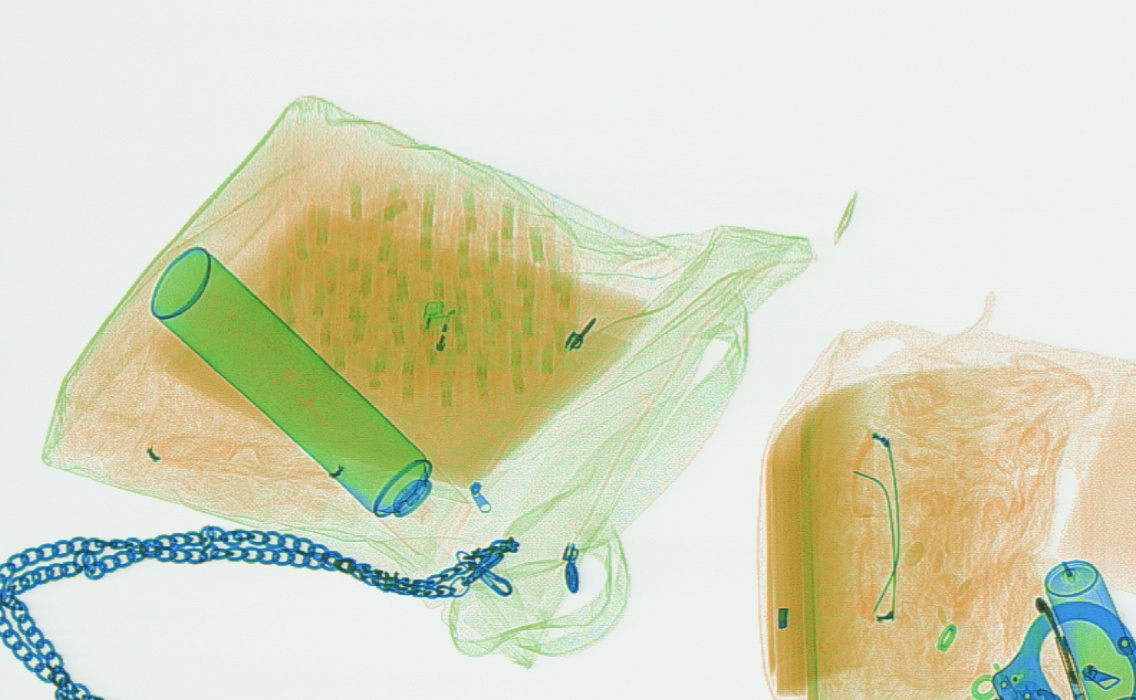firecrackers: (267, 160, 581, 422)
handcuffs: (970, 599, 1133, 697)
lighter: (400, 298, 456, 419)
pressure: (150, 245, 469, 554), (1044, 558, 1127, 697)
